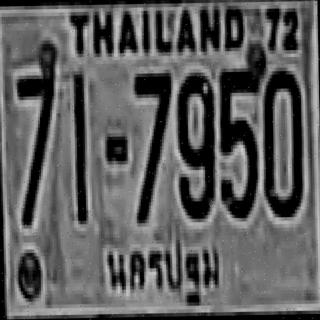N00: (262, 67, 301, 214)
N01: (71, 71, 86, 220)
N05: (217, 63, 262, 216)
N07: (15, 56, 58, 224), (132, 70, 171, 220), (132, 68, 171, 201)
N09: (175, 69, 214, 215)
P28: (98, 232, 232, 313)
